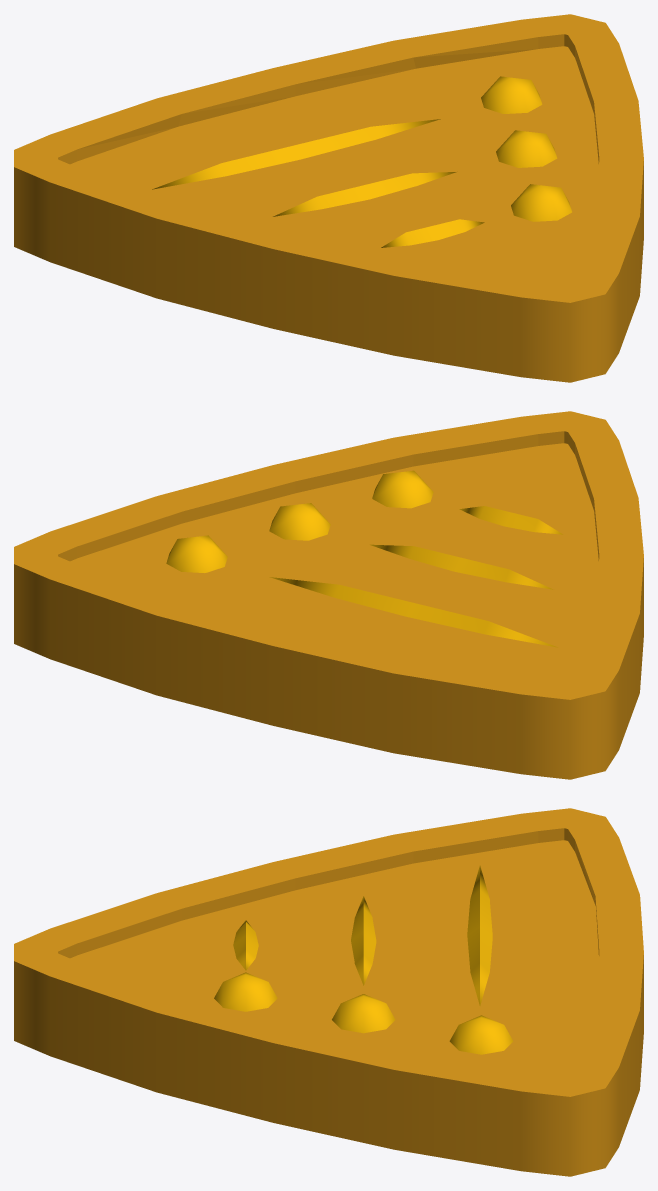
Rendered from Powerup_FullAuto.FBX.
3 renders of one model, top to bottom at view 1: azimuth 30°, elevation 25°; view 2: azimuth 150°, elevation 25°; view 3: azimuth 270°, elevation 25°, orthographic.
Visible parts, largest first — view 1: NGon001; view 2: NGon001; view 3: NGon001.
Boxes of the visible parts, left/top/right/bottom form: NGon001: left=14, top=14, right=643, bottom=382; NGon001: left=14, top=411, right=643, bottom=779; NGon001: left=14, top=808, right=643, bottom=1176.
Bounding box in the file's own units: 155 × 22.87 × 143.
